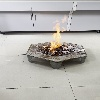fire: (43, 14, 67, 56), (73, 46, 75, 47)
